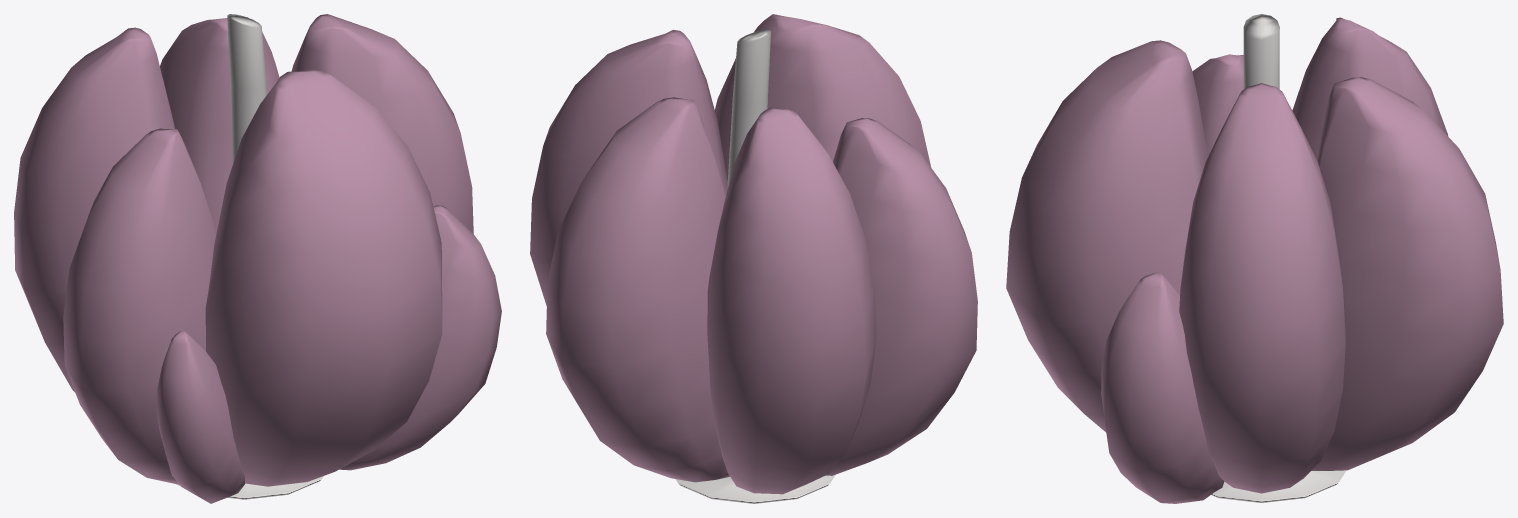
The model's file is Alho.fbx.
3 views of the same model, side by side, from view 1: azimuth 30°, elevation 25°; view 2: azimuth 150°, elevation 25°; view 3: azimuth 270°, elevation 25° (orthographic). The views are drawn at different scales.
Visible parts, largest first — view 1: Dente_de_Alho_MESH1, Dente_de_Alho_MESH4, Dente_de_Alho_MESH6, Dente_de_Alho_MESH, Dente_de_Alho_MESH2, Dente_de_Alho_MESH5, Dente_de_Alho_MESH3, Alho_MESH; view 2: Dente_de_Alho_MESH6, Dente_de_Alho_MESH3, Dente_de_Alho_MESH4, Dente_de_Alho_MESH, Dente_de_Alho_MESH1, Alho_MESH; view 3: Dente_de_Alho_MESH, Dente_de_Alho_MESH3, Dente_de_Alho_MESH1, Dente_de_Alho_MESH2, Dente_de_Alho_MESH6, Alho_MESH, Dente_de_Alho_MESH4.
Boxes of the visible parts, <box> form: Dente_de_Alho_MESH1: <box>205,69,442,486</box>; Dente_de_Alho_MESH4: <box>63,128,215,484</box>; Dente_de_Alho_MESH6: <box>14,27,174,391</box>; Dente_de_Alho_MESH: <box>291,14,473,233</box>; Dente_de_Alho_MESH2: <box>339,205,501,470</box>; Dente_de_Alho_MESH5: <box>156,330,245,503</box>; Dente_de_Alho_MESH3: <box>160,17,279,234</box>; Alho_MESH: <box>177,14,323,499</box>; Dente_de_Alho_MESH6: <box>707,107,876,494</box>; Dente_de_Alho_MESH3: <box>546,97,729,482</box>; Dente_de_Alho_MESH4: <box>826,118,977,475</box>; Dente_de_Alho_MESH: <box>530,29,727,306</box>; Dente_de_Alho_MESH1: <box>714,14,931,180</box>; Alho_MESH: <box>675,29,835,503</box>; Dente_de_Alho_MESH: <box>1179,83,1345,493</box>; Dente_de_Alho_MESH3: <box>1311,77,1503,470</box>; Dente_de_Alho_MESH1: <box>1006,40,1207,432</box>; Dente_de_Alho_MESH2: <box>1101,272,1224,503</box>; Dente_de_Alho_MESH6: <box>1292,17,1448,158</box>; Alho_MESH: <box>1211,14,1346,502</box>; Dente_de_Alho_MESH4: <box>1192,54,1243,156</box>.
Size of the model in its own units: 4.55 by 4.78 by 4.7.
